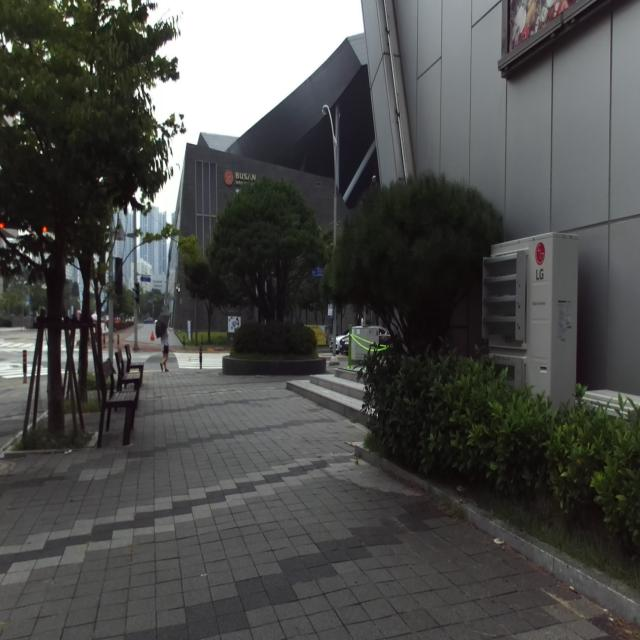횡단보도: (172, 352, 230, 369)
